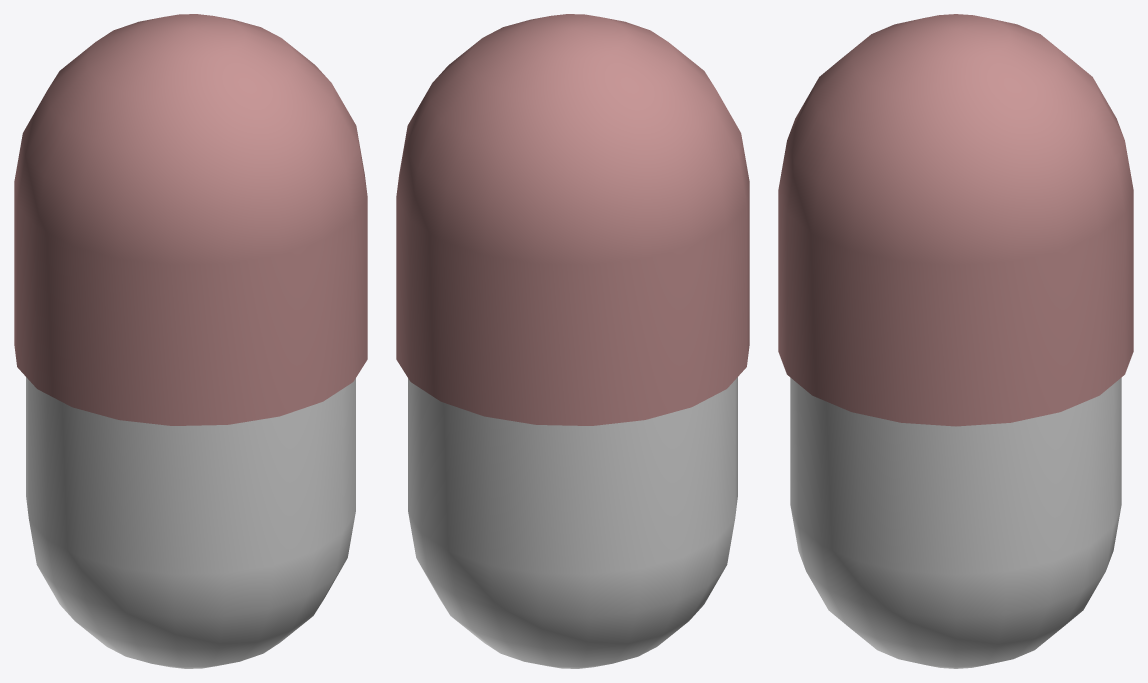
Rendered from Fun_Pill.fbx.
3 renders of one model, left to right at view 1: azimuth 30°, elevation 25°; view 2: azimuth 150°, elevation 25°; view 3: azimuth 270°, elevation 25°, orthographic.
Parts seen in each view (by area): view 1: Fun_Pill; view 2: Fun_Pill; view 3: Fun_Pill.
Part boxes in pixels (left/top/right/bottom): Fun_Pill: left=14, top=14, right=367, bottom=668; Fun_Pill: left=396, top=14, right=749, bottom=668; Fun_Pill: left=778, top=14, right=1133, bottom=668.
Bounding box in the file's own units: 1.07 × 2.08 × 1.07.
